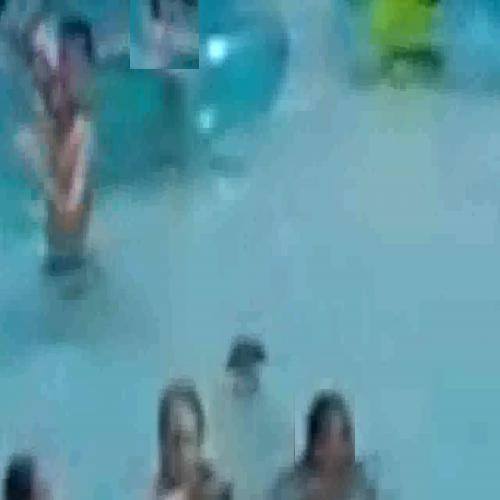drowning: (206, 306, 292, 393)
swimming: (22, 44, 103, 296), (295, 378, 356, 499), (158, 396, 211, 499), (130, 0, 200, 70), (0, 453, 58, 500)
